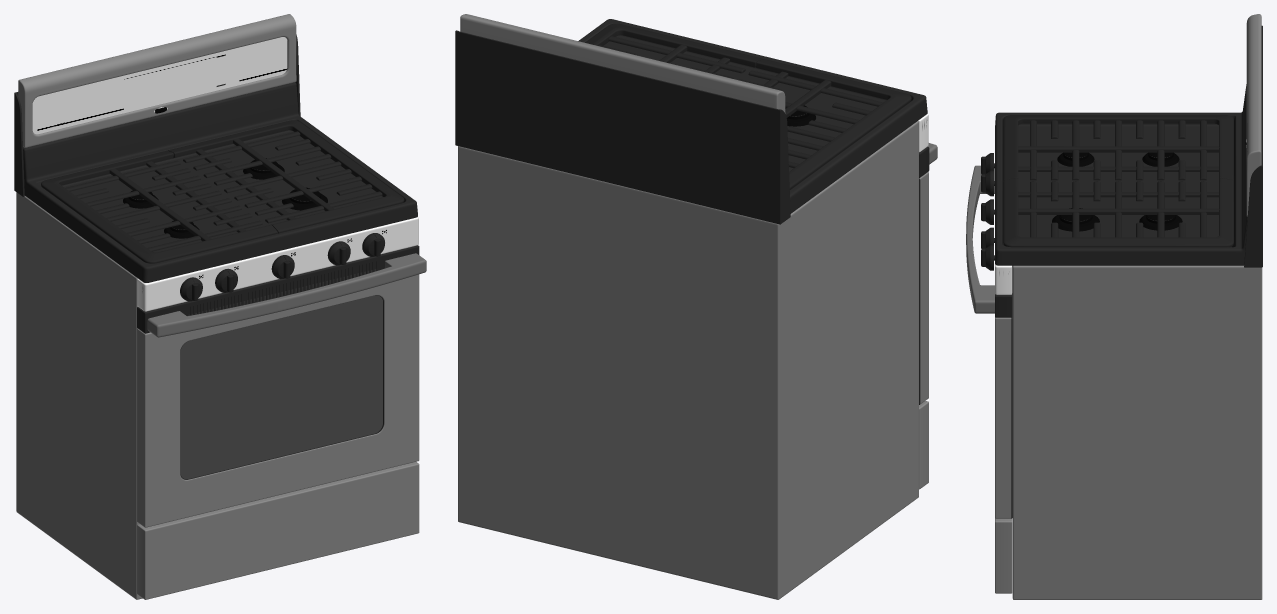
File: oven.glb
3 renders of one model, left to right at view 1: azimuth 30°, elevation 25°; view 2: azimuth 150°, elevation 25°; view 3: azimuth 270°, elevation 25°, orthographic. The views are drawn at different scales.
Visible parts, largest first — view 1: DB_Apps&Tech_04_13; view 2: DB_Apps&Tech_04_13; view 3: DB_Apps&Tech_04_13.
Part boxes in pixels (<box>): DB_Apps&Tech_04_13: <box>14,14,426,599</box>; DB_Apps&Tech_04_13: <box>455,14,937,599</box>; DB_Apps&Tech_04_13: <box>966,14,1262,599</box>.
Size of the model in its own units: 0.8 by 1.19 by 0.7134.
Materials: 10 (3 with a texture image).
